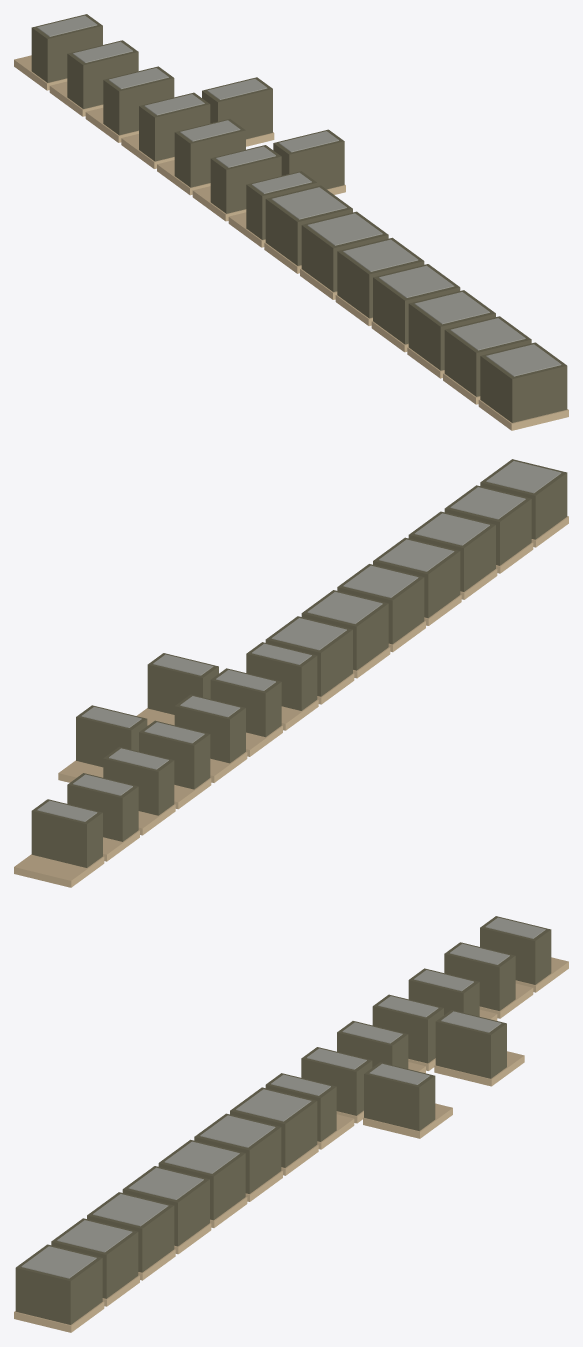
Rendered from SM_CargaCombustible_Mitad_LOD1.fbx.
3 views of the same model, one above another, from view 1: azimuth 30°, elevation 25°; view 2: azimuth 150°, elevation 25°; view 3: azimuth 330°, elevation 25° (orthographic).
Visible parts, largest first — view 1: SM_carga_vagon_v6_LOD1; view 2: SM_carga_vagon_v6_LOD1; view 3: SM_carga_vagon_v6_LOD1.
Part boxes in pixels (x1,y1,x2,y2): SM_carga_vagon_v6_LOD1: (14, 14, 568, 430); SM_carga_vagon_v6_LOD1: (14, 459, 568, 887); SM_carga_vagon_v6_LOD1: (14, 916, 568, 1332).
Bounding box in the file's own units: 2.52 × 1.04 × 18.1.
